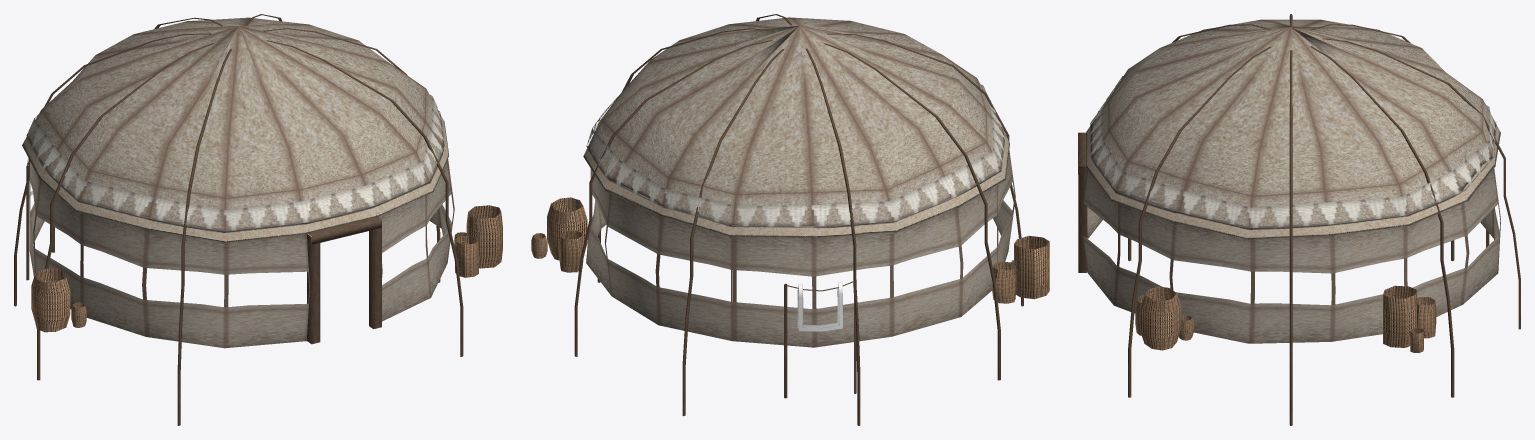
Rendered from step_barracks_01.dae.
The picture shows the model from 3 angles, left to right: view 1: azimuth 30°, elevation 25°; view 2: azimuth 150°, elevation 25°; view 3: azimuth 270°, elevation 25°; orthographic projection.
Parts seen in each view (by area): view 1: Yurt-Floor.002; view 2: Yurt-Floor.002; view 3: Yurt-Floor.002.
Part boxes in pixels (x1,y1,x2,y2): Yurt-Floor.002: [14, 14, 502, 425]; Yurt-Floor.002: [531, 14, 1049, 425]; Yurt-Floor.002: [1078, 14, 1520, 425].
Size of the model in its own units: 26.44 by 23.89 by 17.96.
